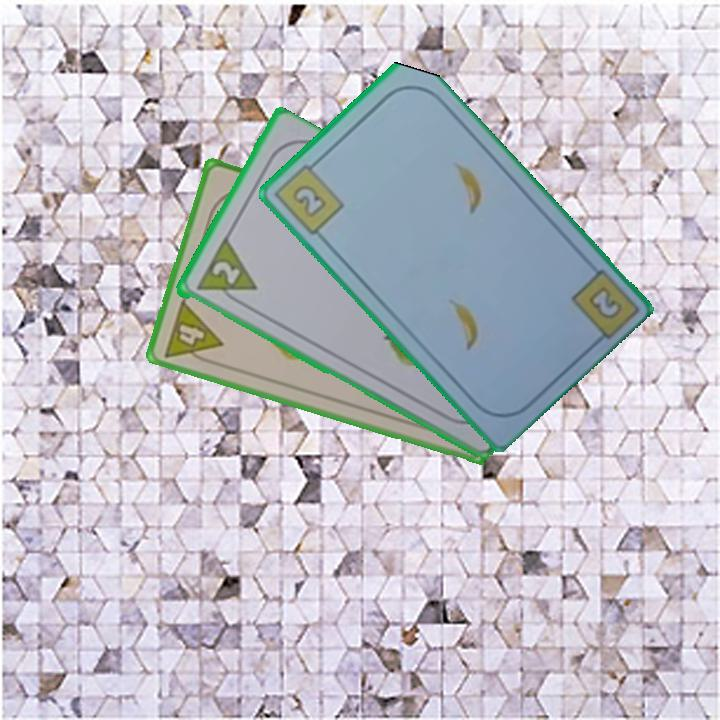2b: (271, 154, 347, 239), (584, 282, 625, 322)
2p: (192, 236, 260, 311)
4p: (160, 296, 226, 369)
